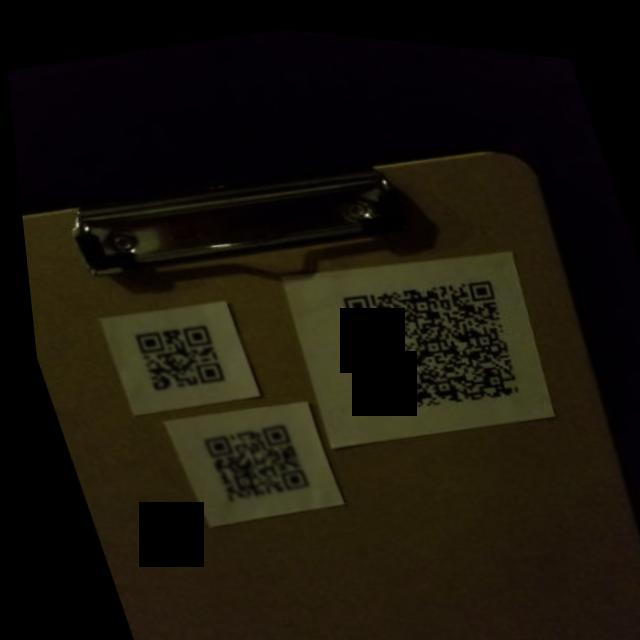QR_CODE: (307, 238, 541, 433), (170, 391, 319, 522), (105, 295, 235, 408)
